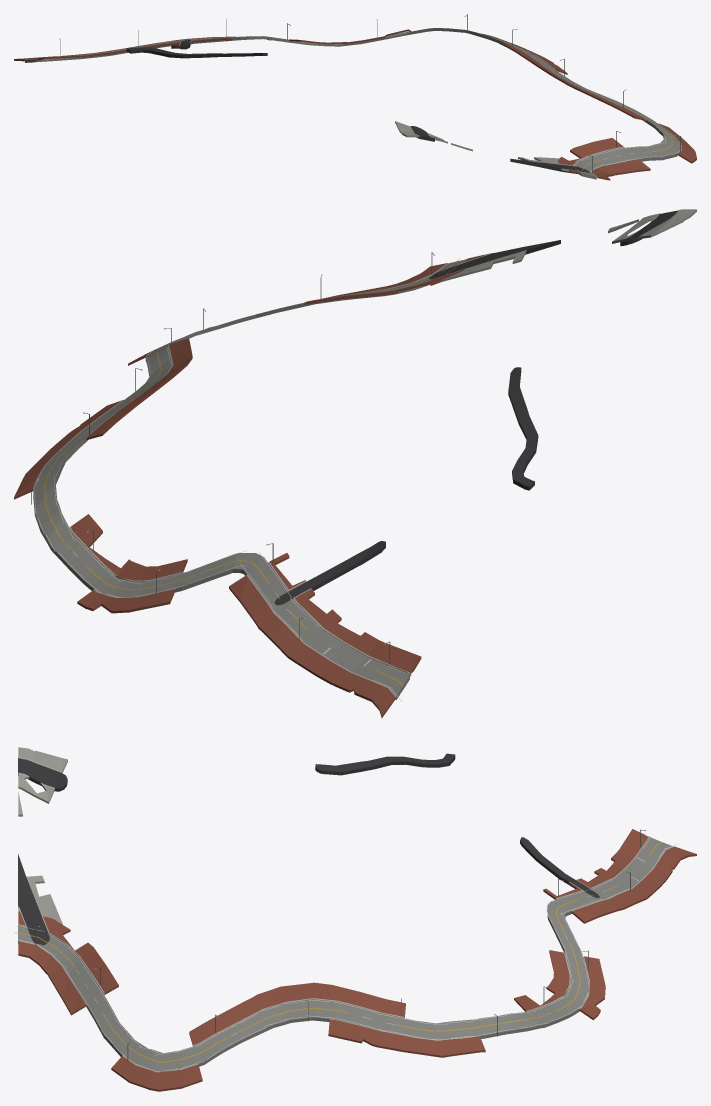
The model's file is 17-109457-59495.71d12eea.glb.
3 renders of one model, top to bottom at view 1: azimuth 30°, elevation 25°; view 2: azimuth 150°, elevation 25°; view 3: azimuth 270°, elevation 25°, orthographic. The views are drawn at different scales.
Bounding box in the file's own units: 181 × 61.49 × 229.
